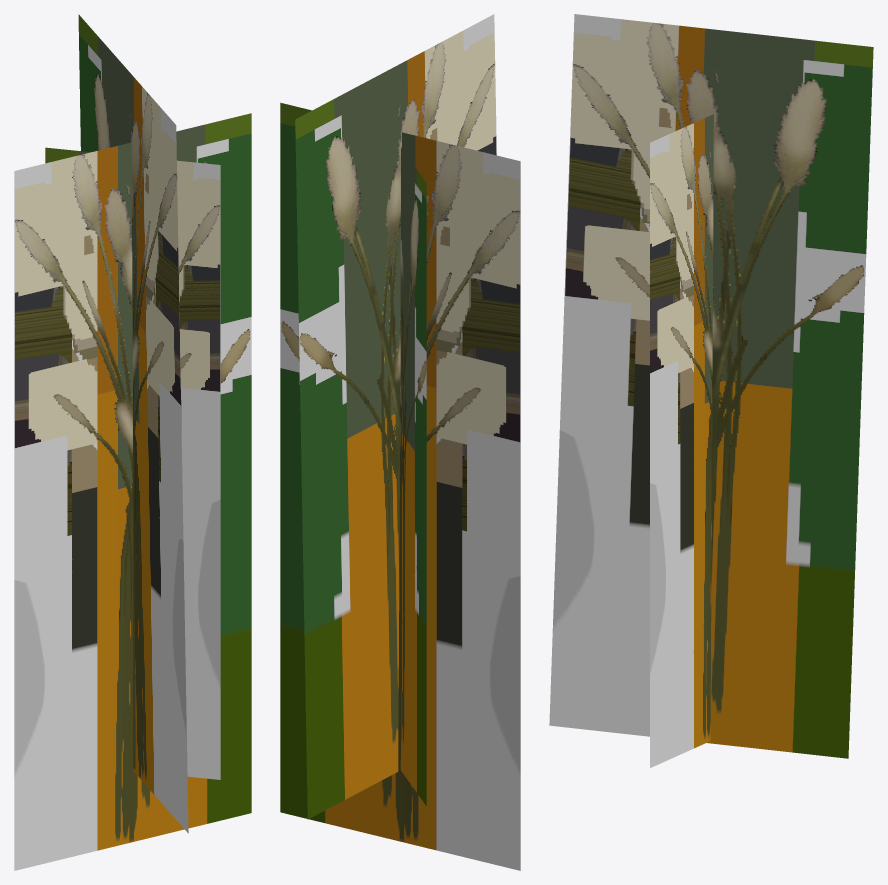
The model's file is FSF_Flower_001.FBX.
3 views of the same model, side by side, from view 1: azimuth 30°, elevation 25°; view 2: azimuth 150°, elevation 25°; view 3: azimuth 270°, elevation 25° (orthographic).
Visible parts, largest first — view 1: FSF_Flower_001; view 2: FSF_Flower_001; view 3: FSF_Flower_001.
Boxes of the visible parts, left/top/right/bottom form: FSF_Flower_001: left=14, top=14, right=251, bottom=870; FSF_Flower_001: left=280, top=14, right=520, bottom=870; FSF_Flower_001: left=549, top=14, right=873, bottom=767.
Bounding box in the file's own units: 12.94 × 40.31 × 15.07.
